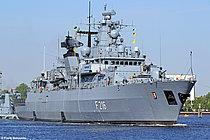MIL_Ship: (14, 2, 199, 124)
